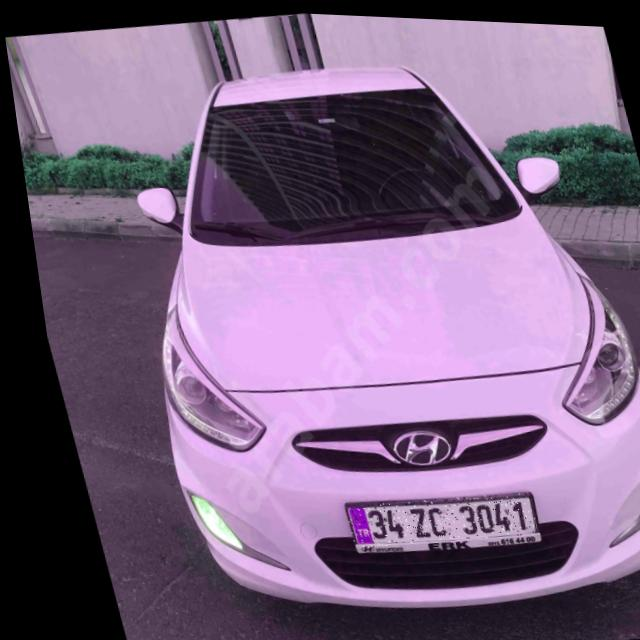license_plate: (327, 480, 526, 552)
